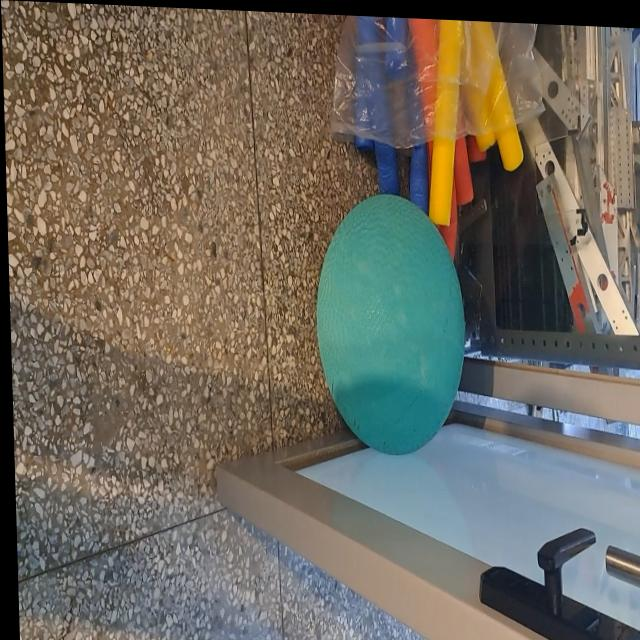ALGAE: (314, 196, 464, 456)
